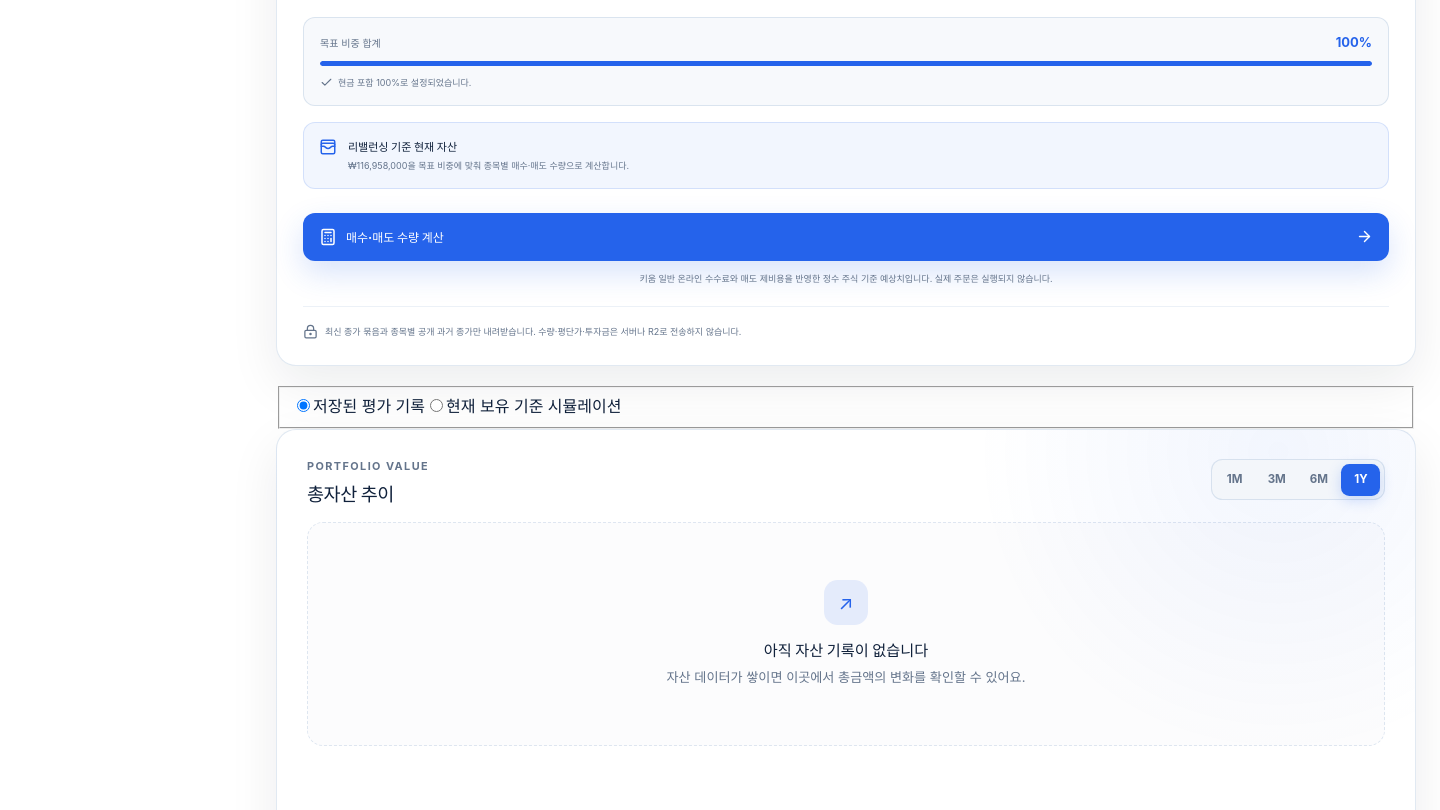
Scenario: App › renders the portfolio dashboard with R2 prices
This screenshot has width=1440, height=810.
(page scrolled)
Click the radio button labelled "현재 보유 기준 시뮬레이션": (436, 406) [430,399,443,412]
(page scrolled)
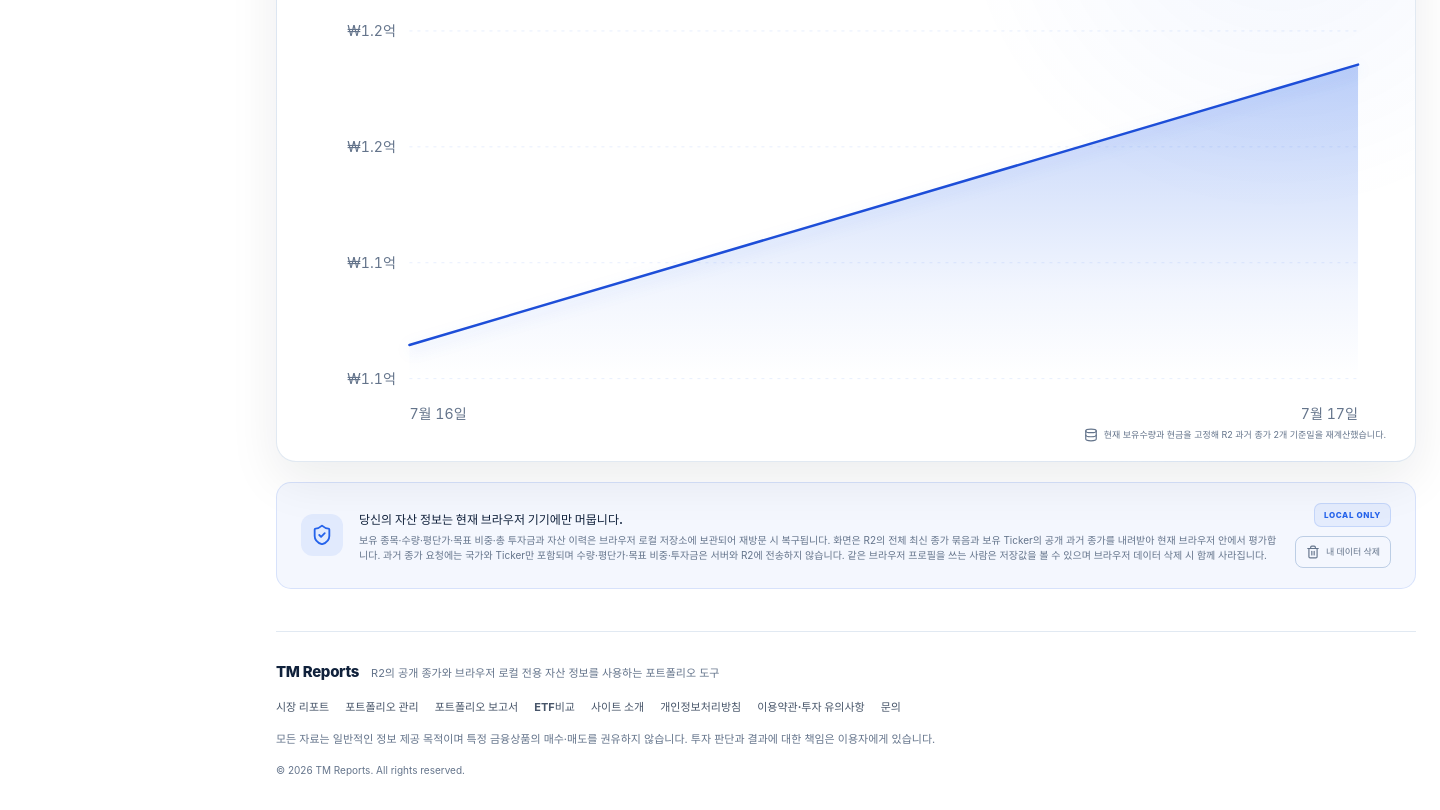
Now the text "현재 보유수량과 현금을 고정해 R2 과거 종가 2개 기준일을 재계산했습니다." is shown, box [1084,428,1386,442]
